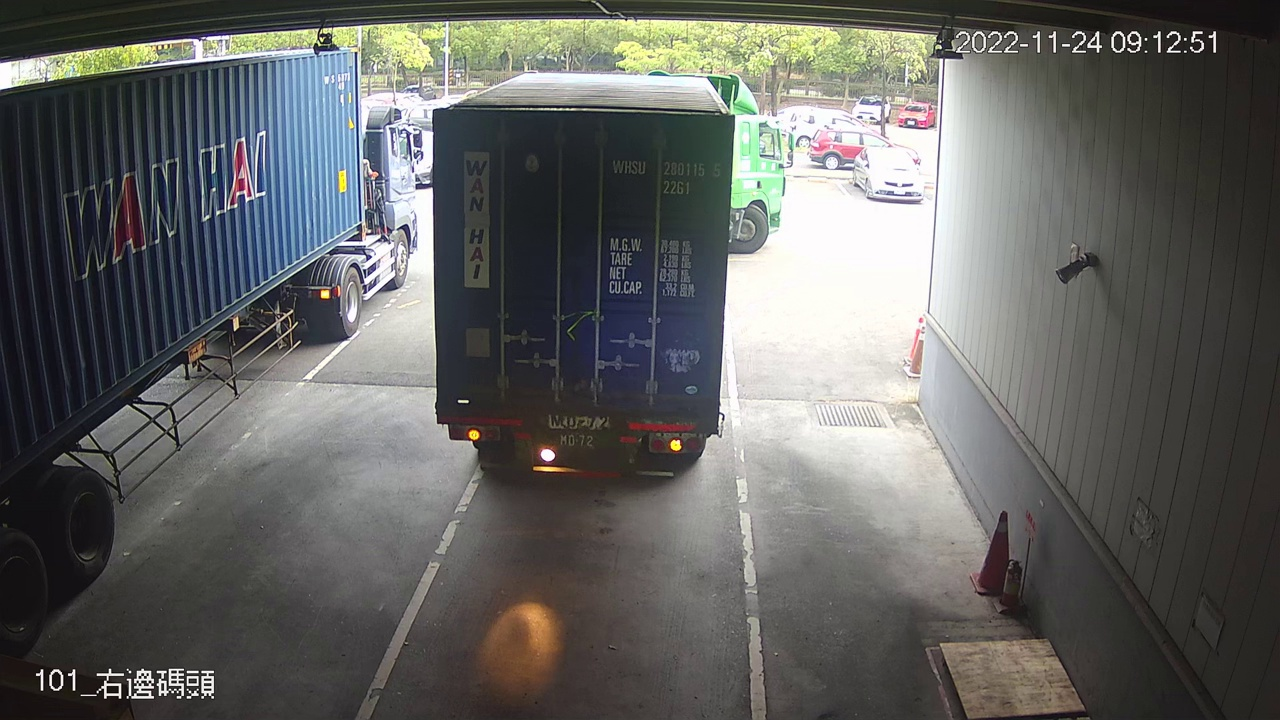container: (608, 154, 728, 198)
